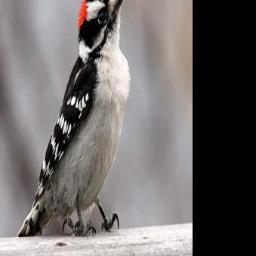Woodpecker: (19, 0, 132, 241)
